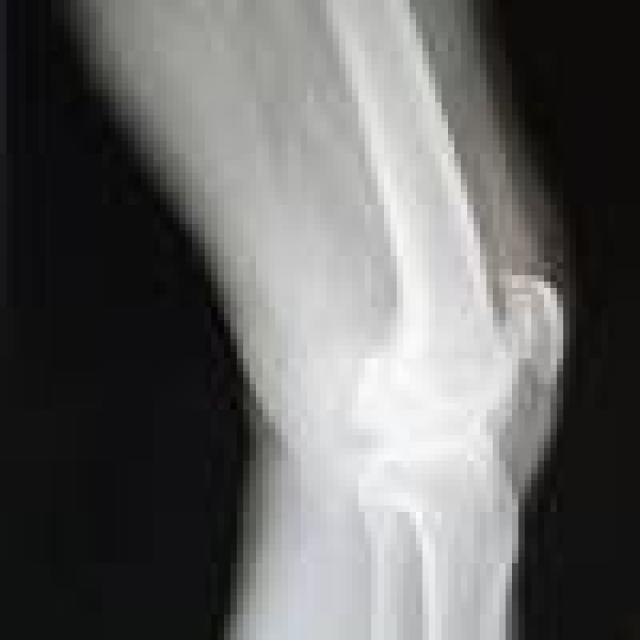Spiral: (357, 230, 595, 459)
